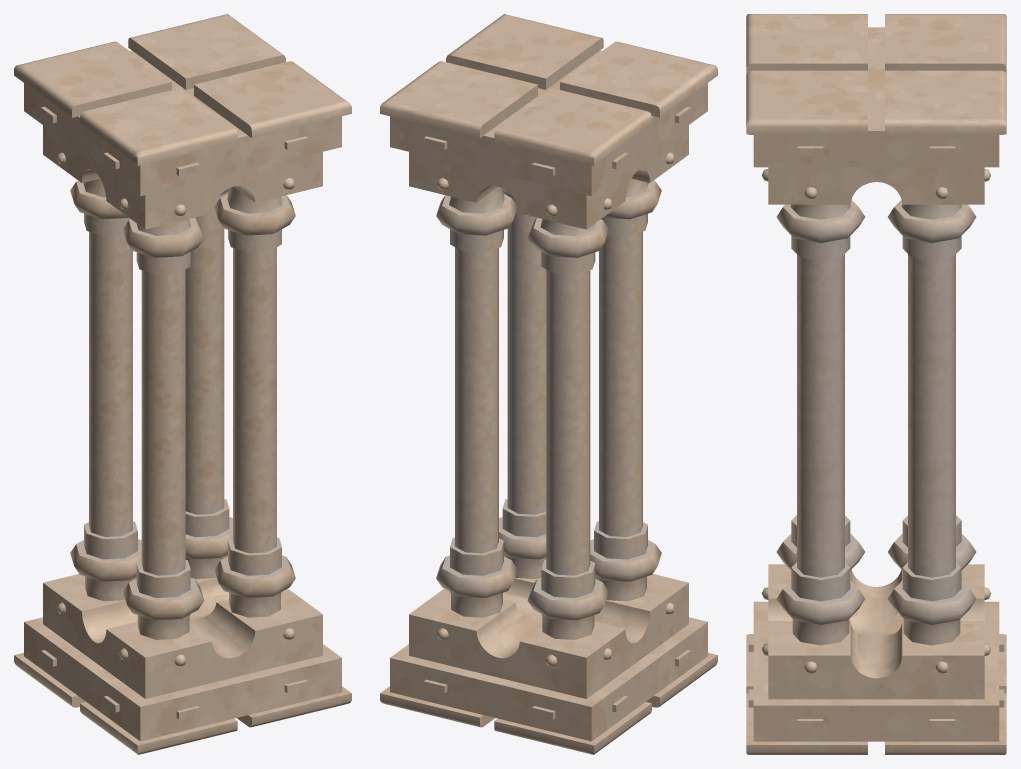
Rendered from slaveking_sutun.fbx.
3 views of the same model, side by side, from view 1: azimuth 30°, elevation 25°; view 2: azimuth 150°, elevation 25°; view 3: azimuth 270°, elevation 25° (orthographic). The views are drawn at different scales.
Visible parts, largest first — view 1: Cylinder.001; view 2: Cylinder.001; view 3: Cylinder.001.
Boxes of the visible parts, x1,y1,x2,y2 form: Cylinder.001: (14, 14, 351, 754); Cylinder.001: (380, 14, 717, 754); Cylinder.001: (746, 14, 1006, 754).
Bounding box in the file's own units: 234 × 630 × 234.
